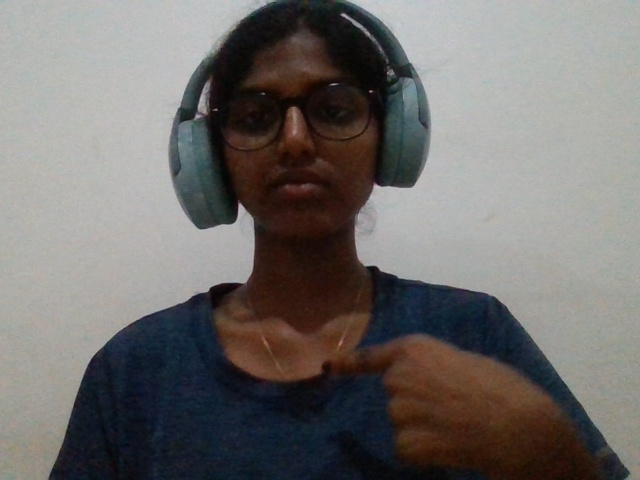Me: (302, 327, 599, 480)
